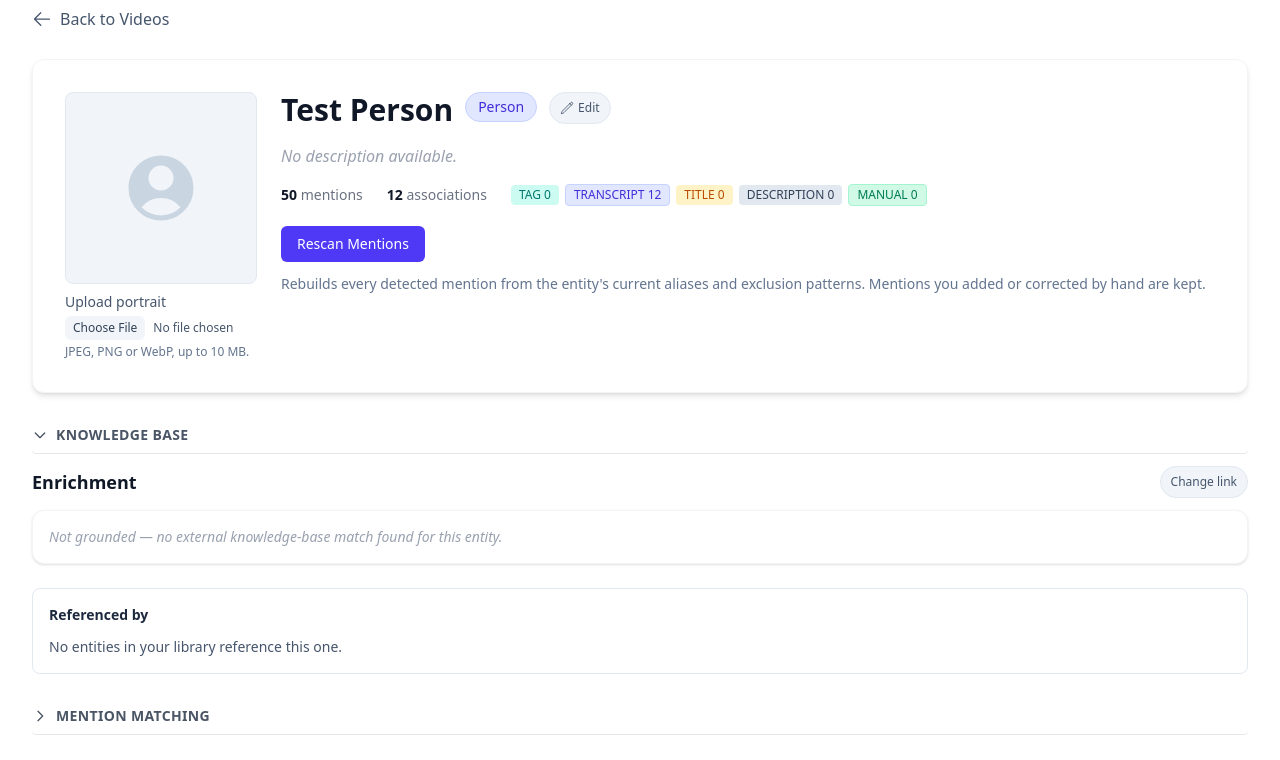
Test: EntityDetailPage — alias name/type edit (#289) › renders an Edit control for the alias
Click the button "Mention matching".
click(133, 716)  # box top-left (32, 698), bottom-right (1248, 735)
(page scrolled)
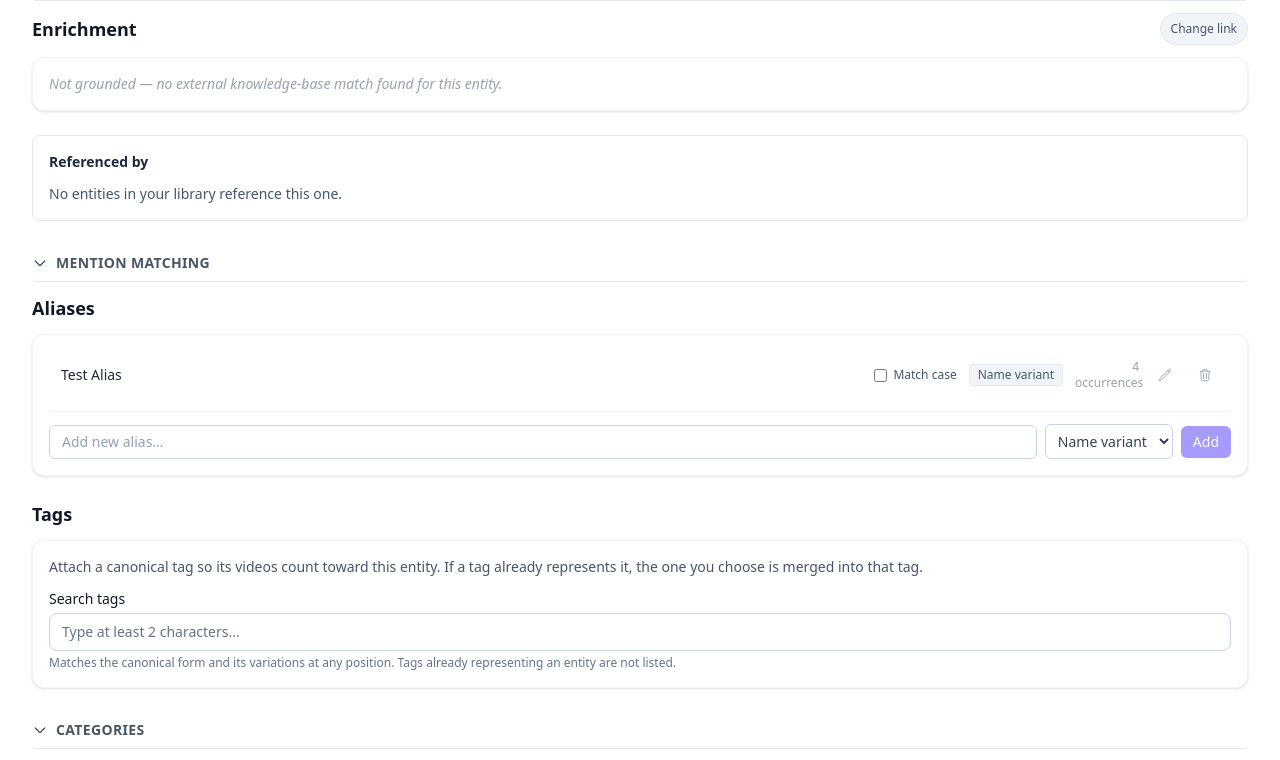
Result: the button named "edit alias \"test alias\"" is shown at top-left (1151, 361), bottom-right (1179, 389)
